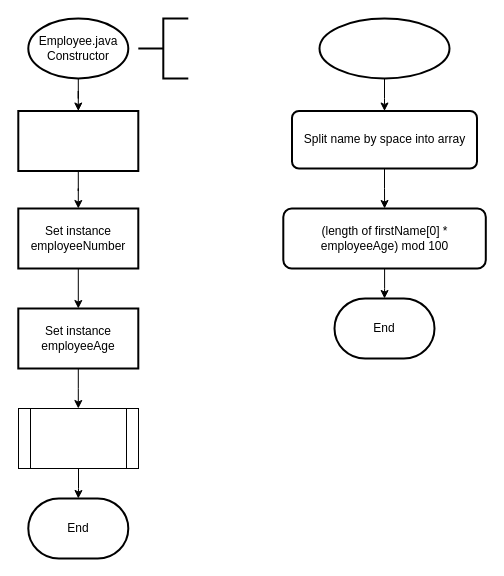
This 504x576 diagram has some shape labels left out. Here are the shapes that lost their labels. From the top down, the box of each, then its label:
(137, 17, 189, 79): Has arguments: name employeeNumber employeeAge
(318, 17, 450, 79): Employee.java createPinNum
(17, 110, 139, 172): Set instance name
(18, 408, 138, 468): Set instance pinNum = createPinNum
